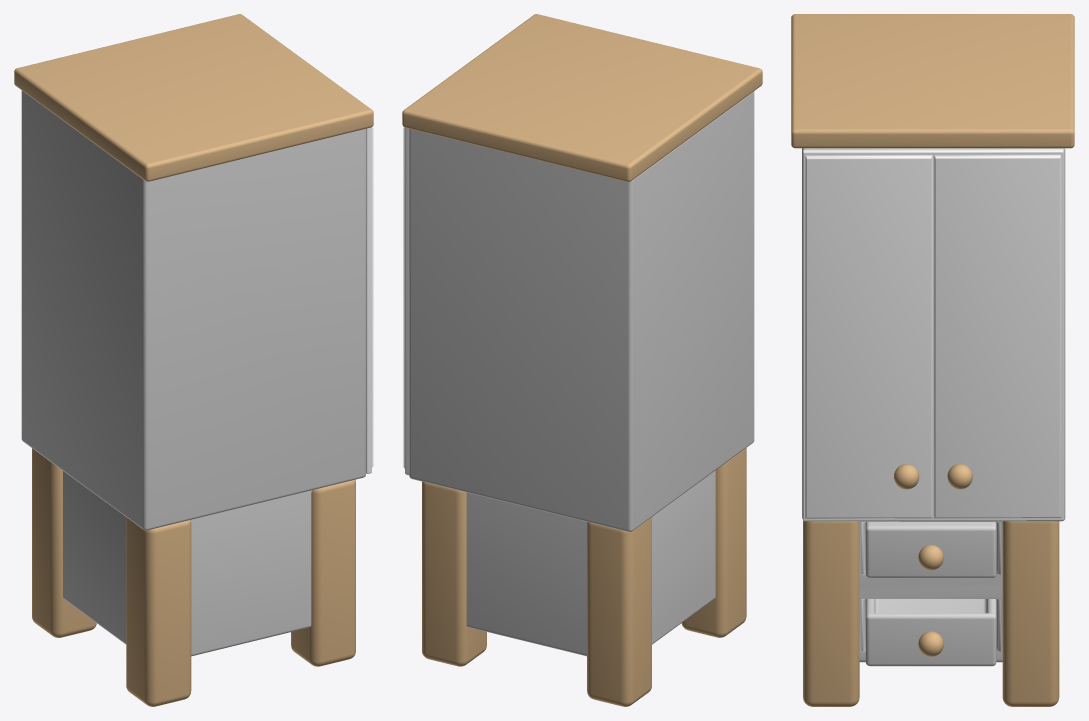
File: simple_library_A.glb
3 views of the same model, side by side, from view 1: azimuth 30°, elevation 25°; view 2: azimuth 150°, elevation 25°; view 3: azimuth 270°, elevation 25° (orthographic). The views are drawn at different scales.
Parts seen in each view (by area): view 1: simple_library_A; view 2: simple_library_A; view 3: simple_library_A.
Boxes of the visible parts, x1,y1,x2,y2 form: simple_library_A: (14, 14, 373, 706); simple_library_A: (402, 14, 762, 706); simple_library_A: (791, 14, 1074, 706).
Bounding box in the file's own units: 0.7279 × 1.47 × 0.6469.
